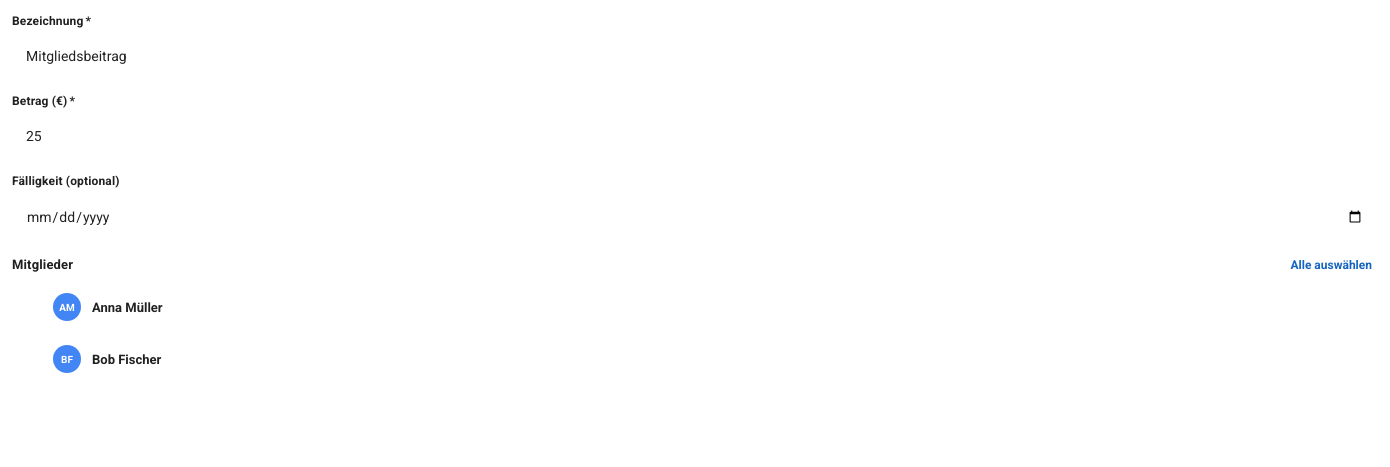
Test: ContribCreateSheet › toggling a member enables submit once name and amount are also valid
Click the checkbox "Anna Müller": (127, 307) [12, 284, 1378, 330]
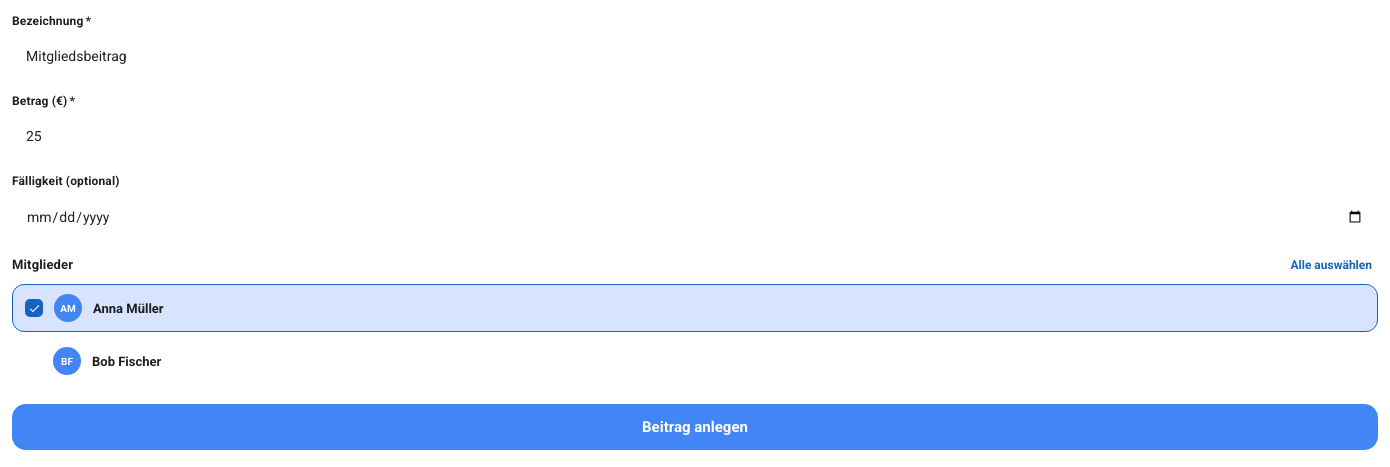
Check: the button "Beitrag anlegen" is enabled, box [12, 404, 1378, 450]
